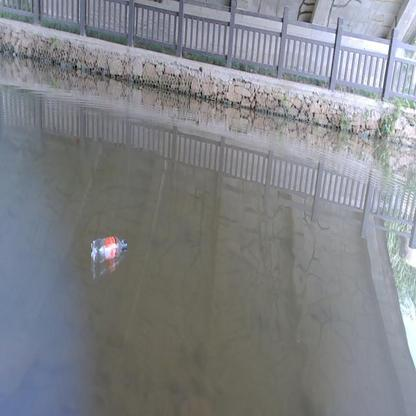plastic bottle: (89, 236, 128, 261)
